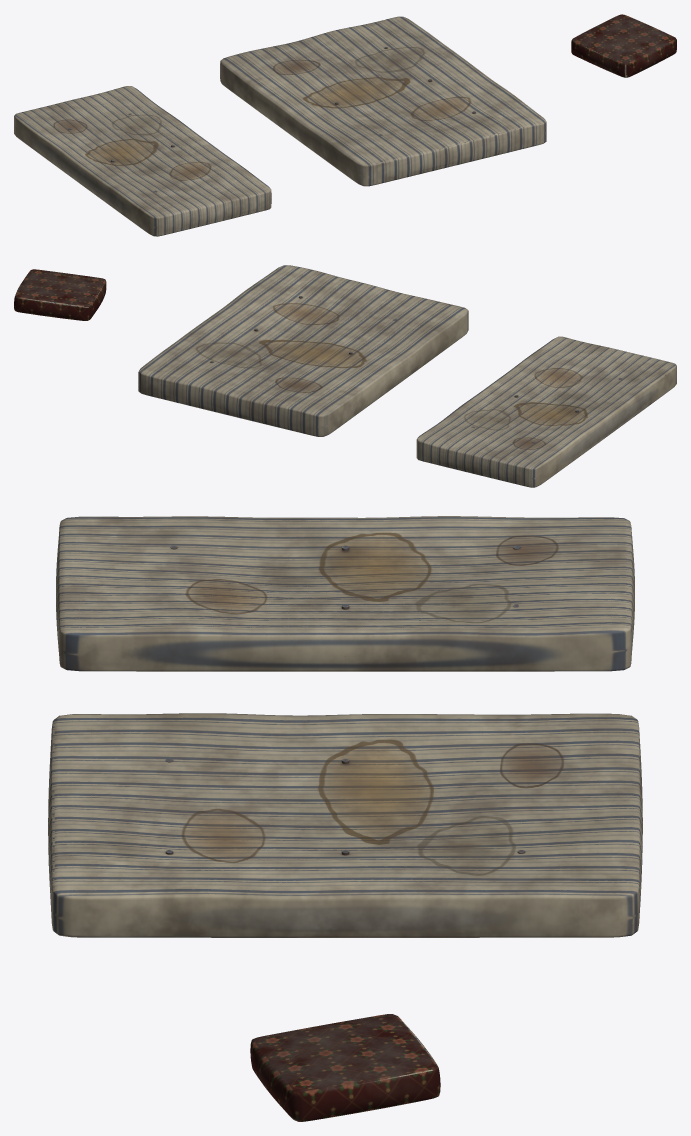
The model's file is SoftGoods.fbx.
The picture shows the model from 3 angles, top to bottom: view 1: azimuth 30°, elevation 25°; view 2: azimuth 150°, elevation 25°; view 3: azimuth 270°, elevation 25°; orthographic projection. The views are drawn at different scales.
Visible parts, largest first — view 1: Mattress_Double, Mattress_Single, Cushion; view 2: Mattress_Double, Mattress_Single, Cushion; view 3: Mattress_Double, Mattress_Single, Cushion.
Part boxes in pixels (<box>): Mattress_Double: <box>220,16,546,186</box>; Mattress_Single: <box>14,86,271,236</box>; Cushion: <box>571,14,676,77</box>; Mattress_Double: <box>138,265,468,436</box>; Mattress_Single: <box>416,336,676,487</box>; Cushion: <box>14,269,106,320</box>; Mattress_Double: <box>48,713,642,937</box>; Mattress_Single: <box>56,516,634,671</box>; Cushion: <box>250,1014,440,1121</box>.
Bounding box in the file's own units: 4.37 × 0.207 × 1.93.
